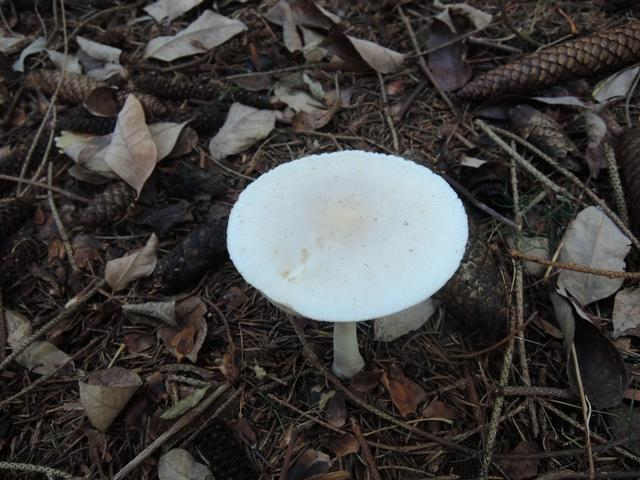Non-edible Mushroom: (224, 148, 470, 379)
